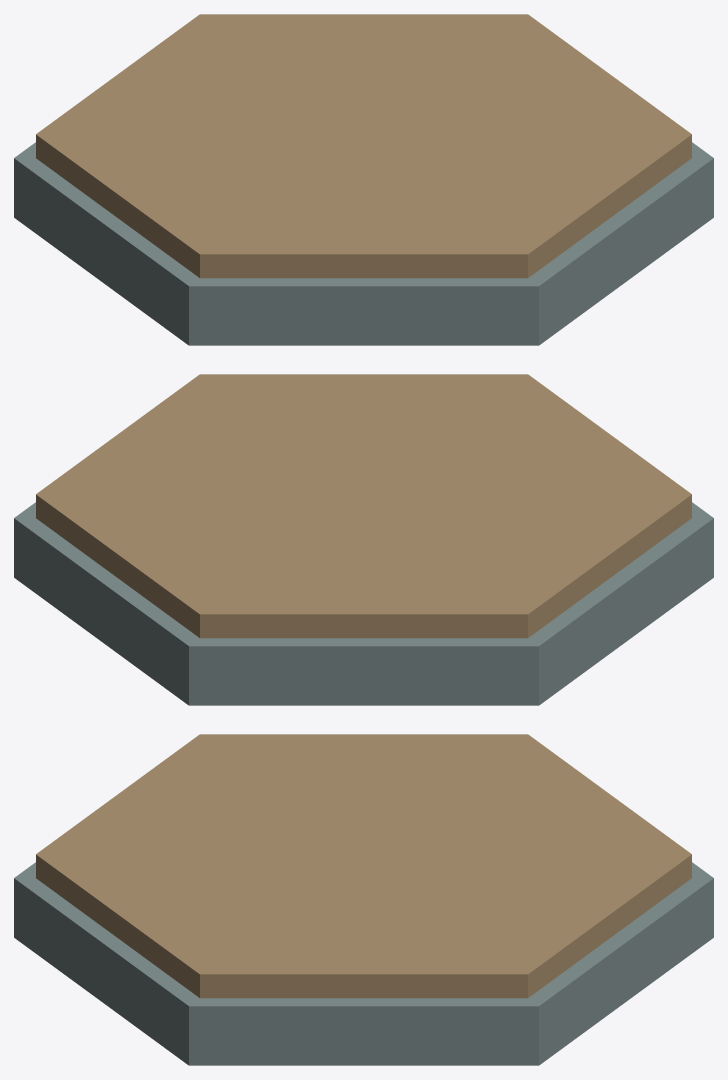
Rendered from podium-test.glb.
3 views of the same model, one above another, from view 1: azimuth 30°, elevation 25°; view 2: azimuth 150°, elevation 25°; view 3: azimuth 270°, elevation 25° (orthographic).
Visible parts, largest first — view 1: PodiumTop, PodiumBase; view 2: PodiumTop, PodiumBase; view 3: PodiumTop, PodiumBase.
Part boxes in pixels (x1,y1,x2,y2): PodiumTop: (36,14,691,278); PodiumBase: (14,142,713,345); PodiumTop: (36,374,691,638); PodiumBase: (14,502,713,705); PodiumTop: (36,734,691,998); PodiumBase: (14,862,713,1065).
Size of the model in its own units: 2.77 by 0.42 by 3.2.
